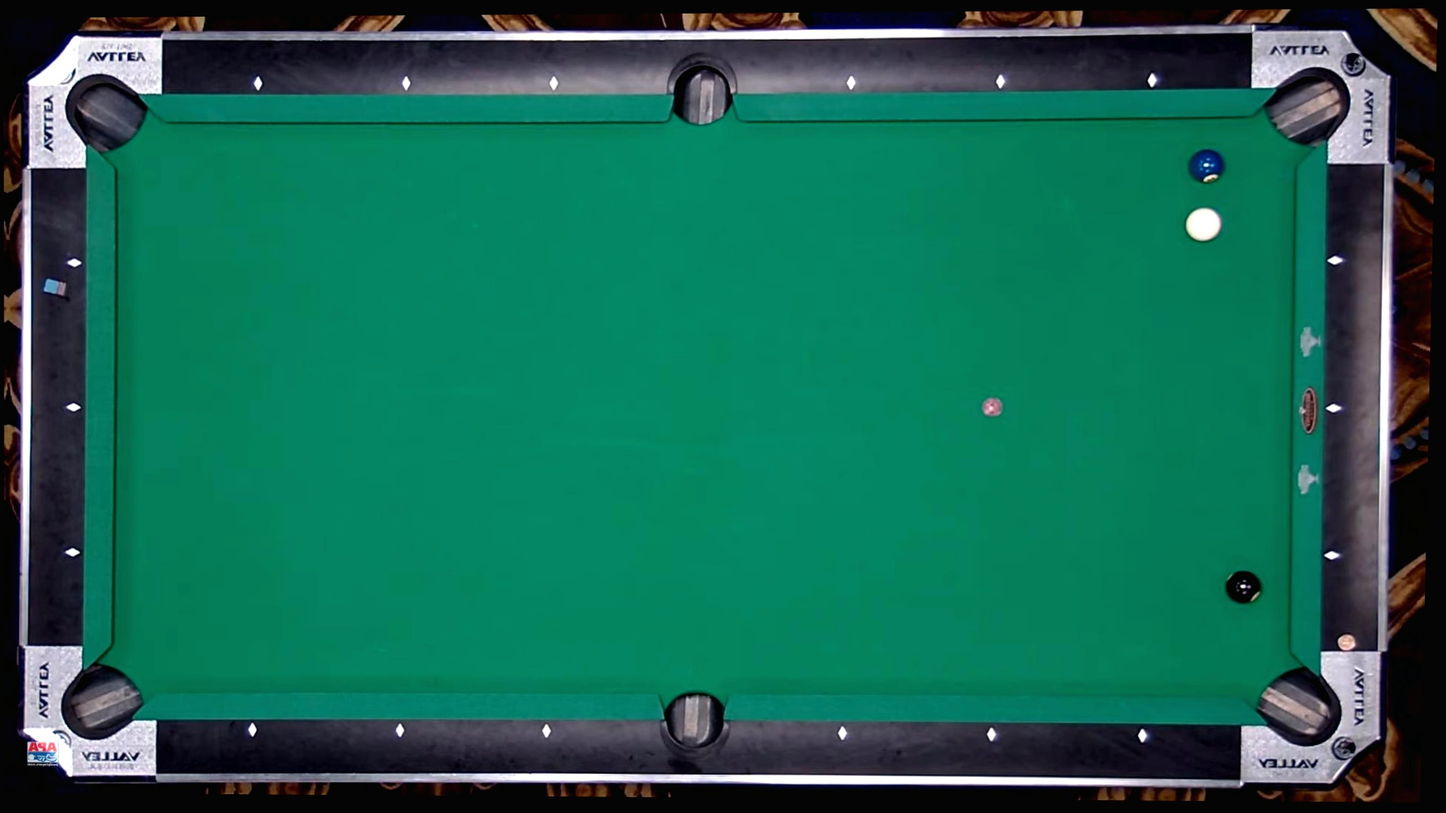Black: (1329, 256, 1340, 267), (995, 76, 1006, 87), (253, 78, 264, 89), (68, 402, 79, 413), (67, 547, 78, 558), (248, 725, 259, 736), (986, 730, 997, 741), (1327, 551, 1338, 561), (1328, 402, 1339, 412), (846, 78, 856, 89), (548, 78, 559, 88), (402, 78, 412, 89), (396, 724, 406, 735), (542, 725, 553, 735), (837, 729, 848, 739), (1146, 75, 1156, 85), (69, 259, 79, 269), (1138, 731, 1148, 741)
Cue: (1188, 149, 1224, 184)
Solid: (1225, 569, 1262, 604)
Stripe: (1187, 207, 1221, 243)
